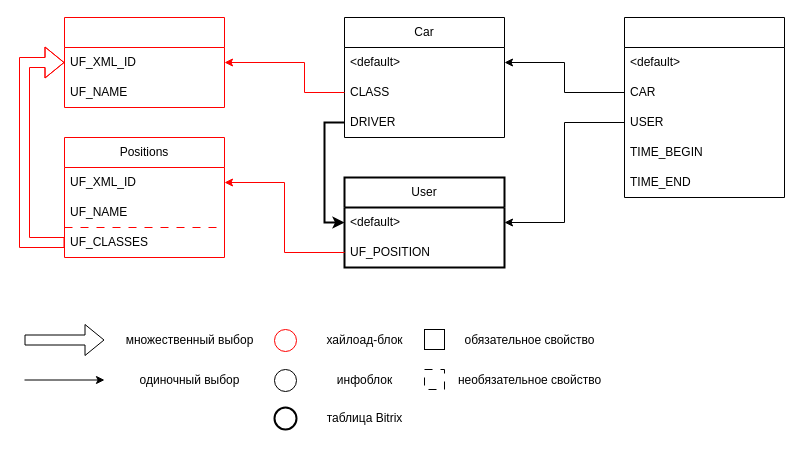
The diagram is 802 pixels wide and 451 high, and some of its shapes have lost their labels. The shapes that lost their labels are listed below. From the top down, each one's box as (x1, y1, x2, y2) in pixels, then its label:
(64, 16, 224, 108): ComfortClasses
(624, 16, 784, 198): Travels
